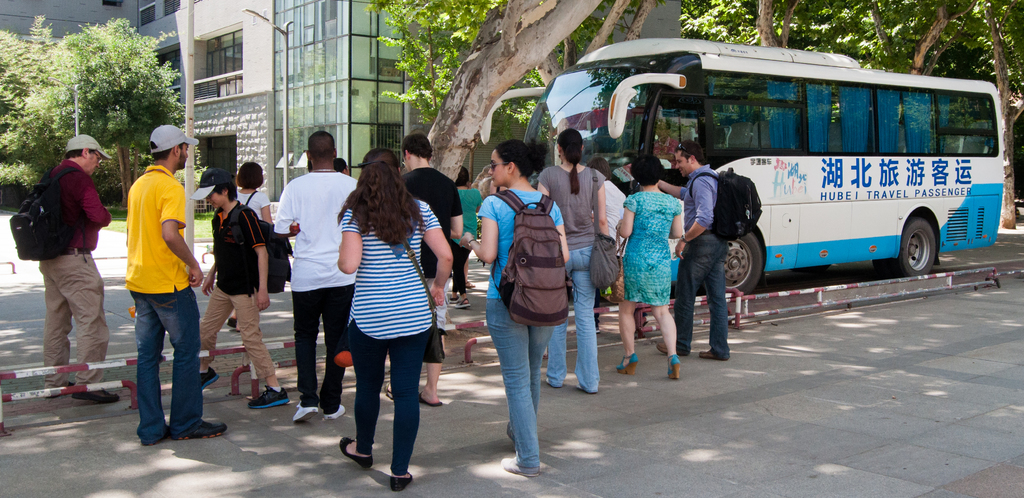Bus: (471, 37, 1001, 296)
